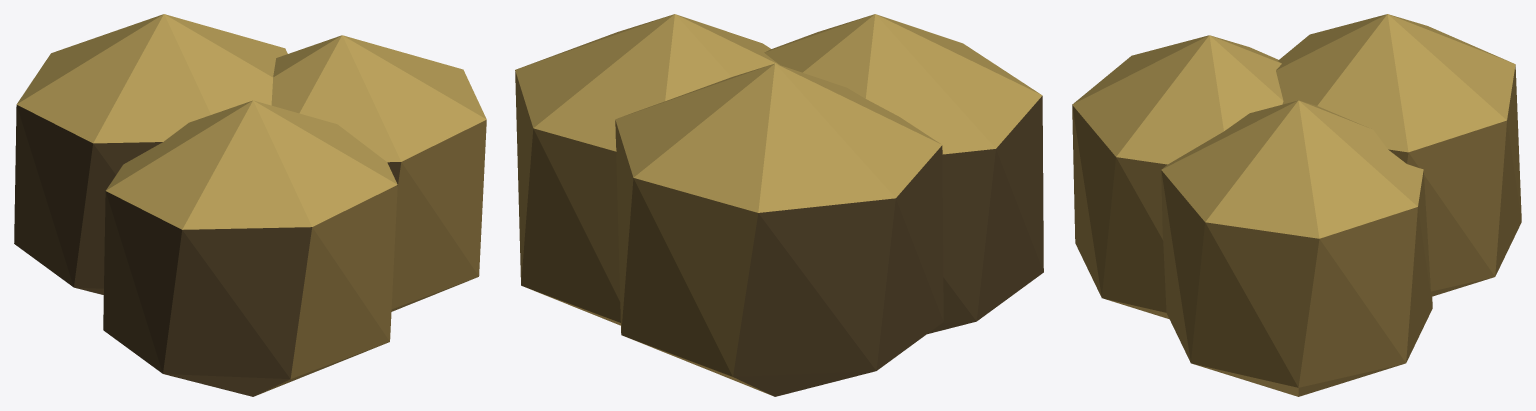
Rendered from TW_VEG_BUSH_ROUND_A_LOD0.glb.
The picture shows the model from 3 angles, left to right: view 1: azimuth 30°, elevation 25°; view 2: azimuth 150°, elevation 25°; view 3: azimuth 270°, elevation 25°; orthographic projection. The views are drawn at different scales.
Parts seen in each view (by area): view 1: TW_VEG_BUSH_ROUND_A_LOD0; view 2: TW_VEG_BUSH_ROUND_A_LOD0; view 3: TW_VEG_BUSH_ROUND_A_LOD0.
Boxes of the visible parts, x1=… form: TW_VEG_BUSH_ROUND_A_LOD0: x1=14, y1=14, x2=486, y2=396; TW_VEG_BUSH_ROUND_A_LOD0: x1=515, y1=14, x2=1043, y2=396; TW_VEG_BUSH_ROUND_A_LOD0: x1=1072, y1=14, x2=1521, y2=396.
Bounding box in the file's own units: 0.9738 × 0.75 × 0.9618.
Materials: 1 (1 with a texture image).
